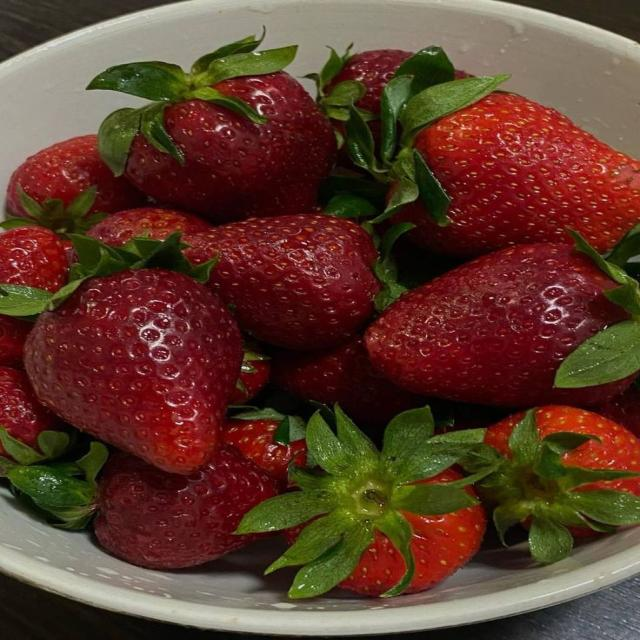strawberry: (338, 49, 639, 257), (239, 406, 485, 597), (88, 38, 336, 221), (25, 269, 242, 473), (366, 244, 637, 407), (396, 93, 639, 256), (7, 443, 279, 569), (186, 214, 379, 349), (477, 406, 639, 563), (94, 446, 278, 569), (272, 336, 425, 426), (308, 47, 439, 143), (7, 135, 144, 217), (403, 507, 486, 593), (0, 366, 68, 465), (324, 49, 416, 117), (222, 410, 306, 483), (325, 49, 413, 115), (87, 207, 211, 246), (0, 227, 68, 292), (230, 343, 271, 404), (592, 384, 639, 437), (0, 314, 32, 366)
